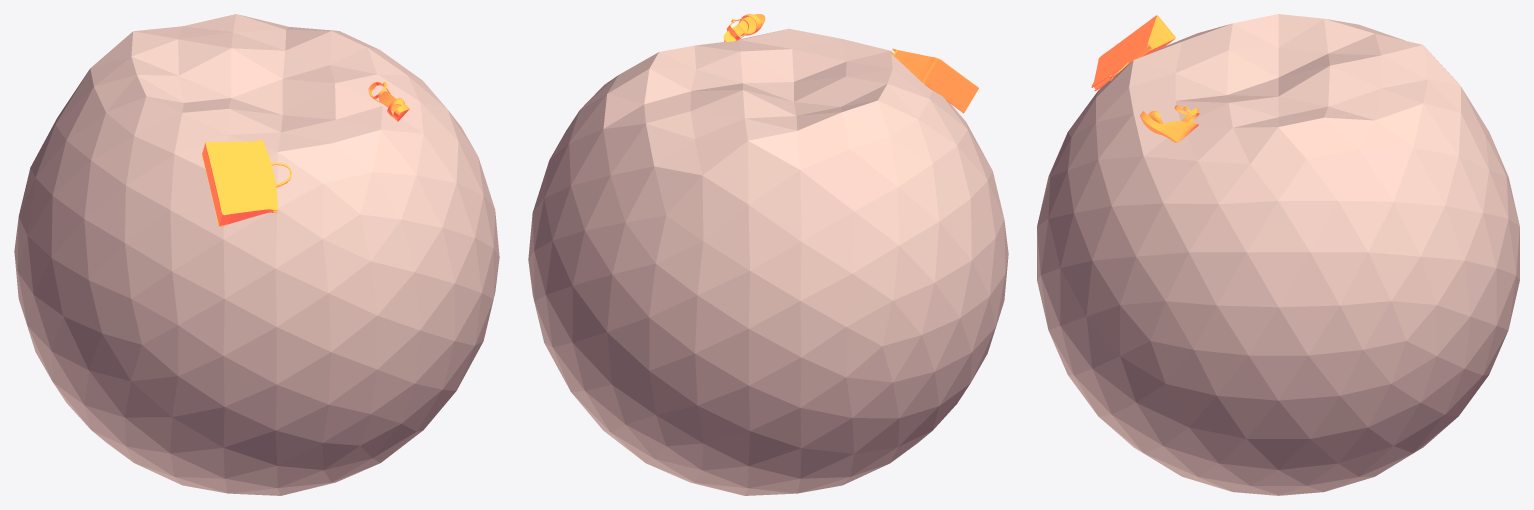
The model's file is Scarf_on_bear14.dae.
3 views of the same model, side by side, from view 1: azimuth 30°, elevation 25°; view 2: azimuth 150°, elevation 25°; view 3: azimuth 270°, elevation 25° (orthographic).
Parts seen in each view (by area): view 1: Sphere, bag1, shoe; view 2: Sphere, bag1, shoe; view 3: Sphere, bag1, shoe.
Part boxes in pixels (x1,y1,x2,y2): Sphere: (14,14,499,495); bag1: (202,140,291,226); shoe: (368,81,409,121); Sphere: (528,28,1008,495); bag1: (890,48,978,113); shoe: (723,14,765,41); Sphere: (1037,14,1519,495); bag1: (1091,15,1175,90); shoe: (1140,105,1199,142).
Size of the model in its own units: 394 by 366 by 394.
